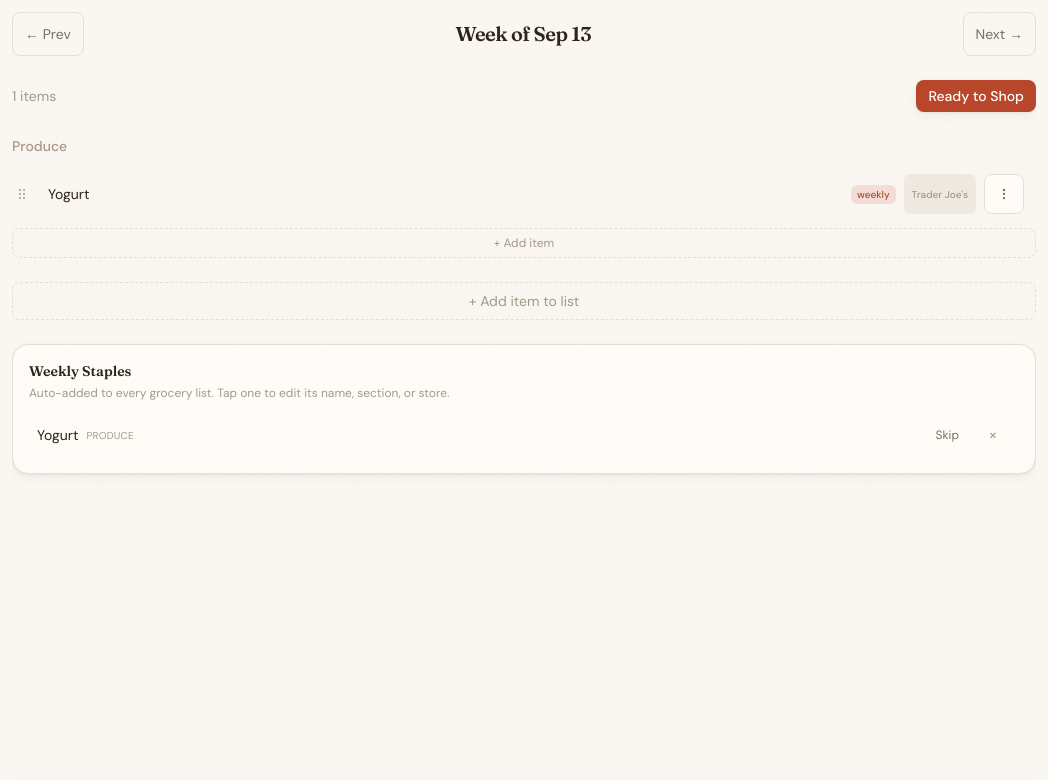
Scenario: Weekly staples editor › reverts the staple when the server rejects the edit
The width and height of the screenshot is (1048, 780).
Click the button with aria-label "Edit staple Yogurt": (58, 435) [37, 413, 920, 457]
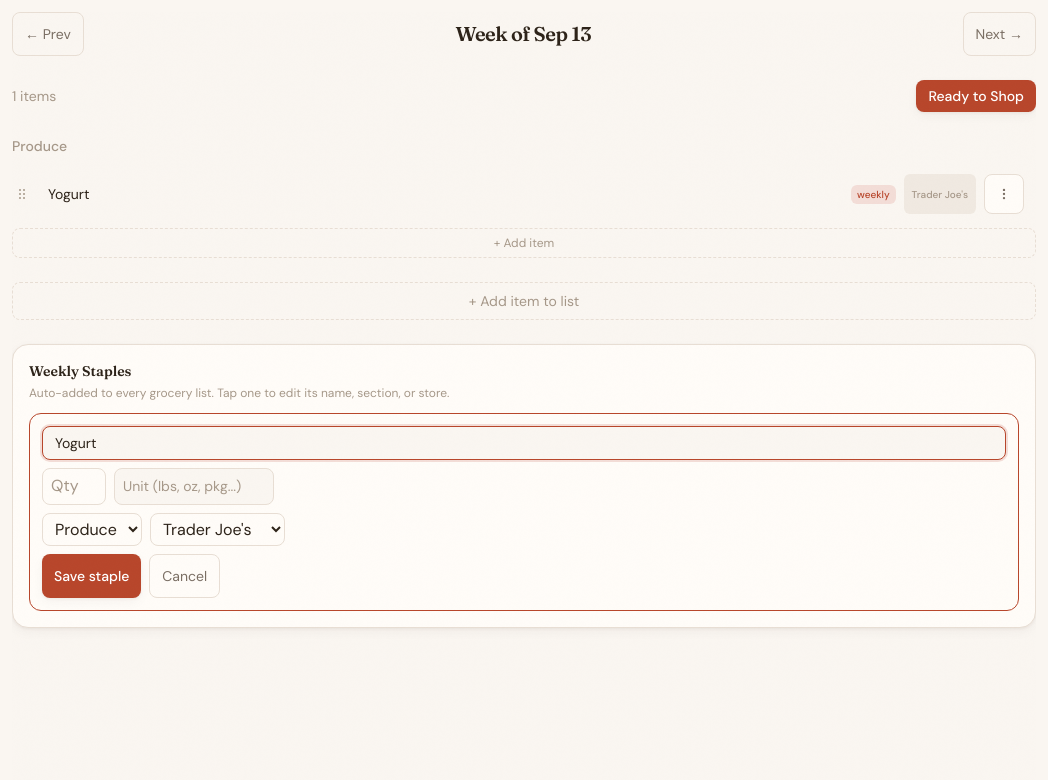
Replace the text in the field with placeholder "Item name..." with "Skyr": (524, 443) [42, 426, 1006, 460]
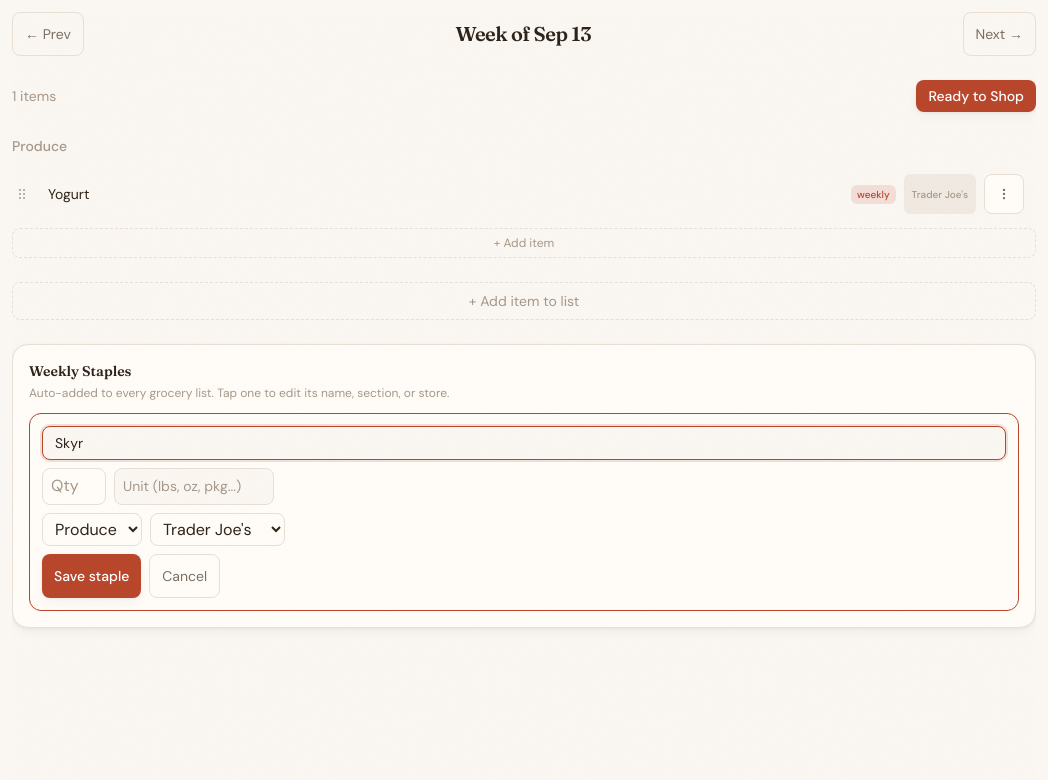
Click the button "Save staple": (92, 576) [42, 554, 141, 598]
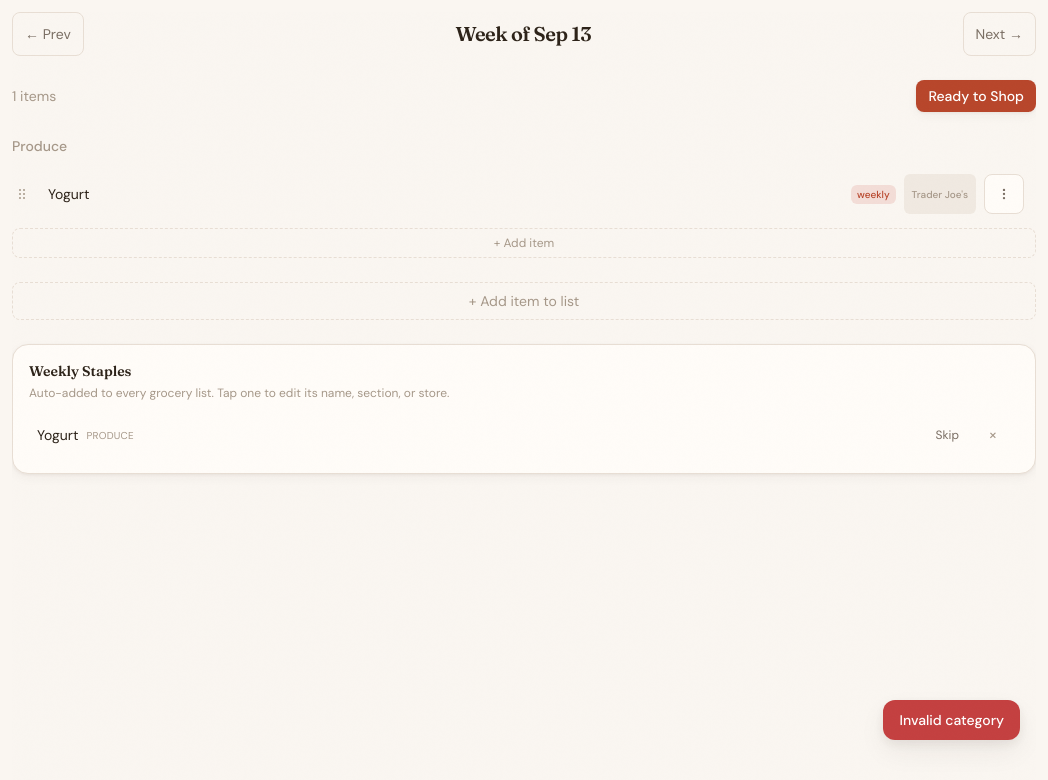
expect the text "Invalid category" is shown: met, box [883, 700, 1020, 740]
expect the button with aria-label "Edit staple Yogurt" is shown: met, box [37, 413, 920, 457]
